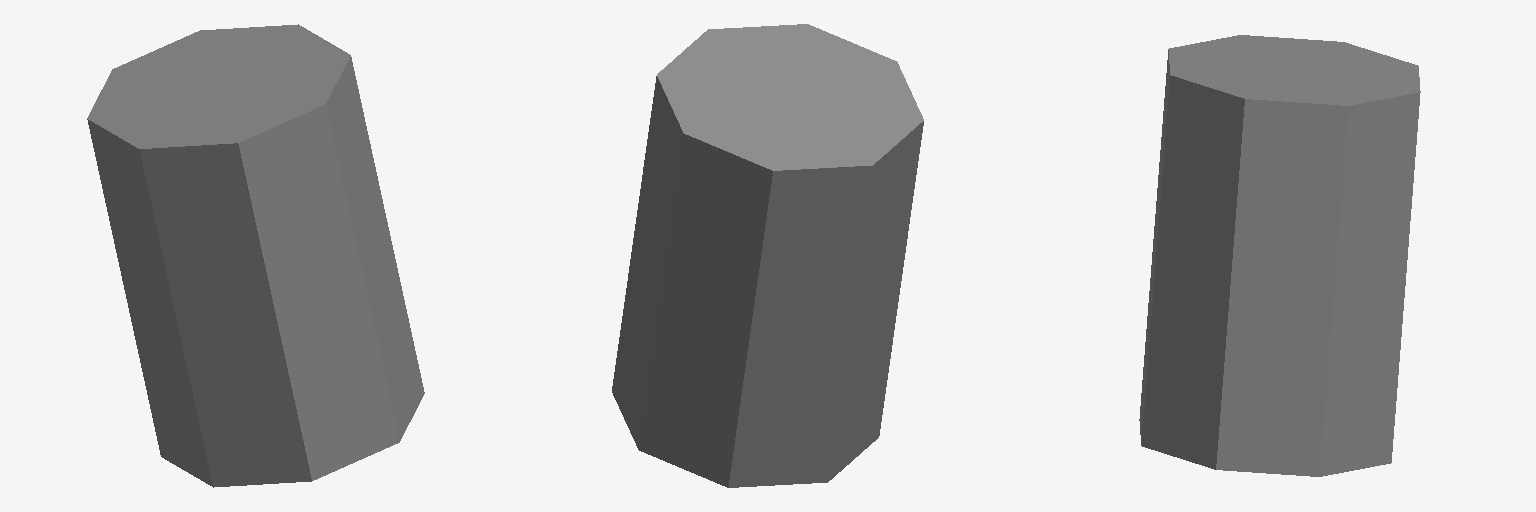
Rendered from biomedgel_v1.obj.
3 views of the same model, side by side, from view 1: azimuth 30°, elevation 25°; view 2: azimuth 150°, elevation 25°; view 3: azimuth 270°, elevation 25° (orthographic).
Parts seen in each view (by area): view 1: Cylinder02; view 2: Cylinder02; view 3: Cylinder02.
Part boxes in pixels (x1,y1,x2,y2): Cylinder02: (87,24,424,487); Cylinder02: (612,24,923,487); Cylinder02: (1139,35,1420,476).
Size of the model in its own units: 57.12 by 77.72 by 50.82.